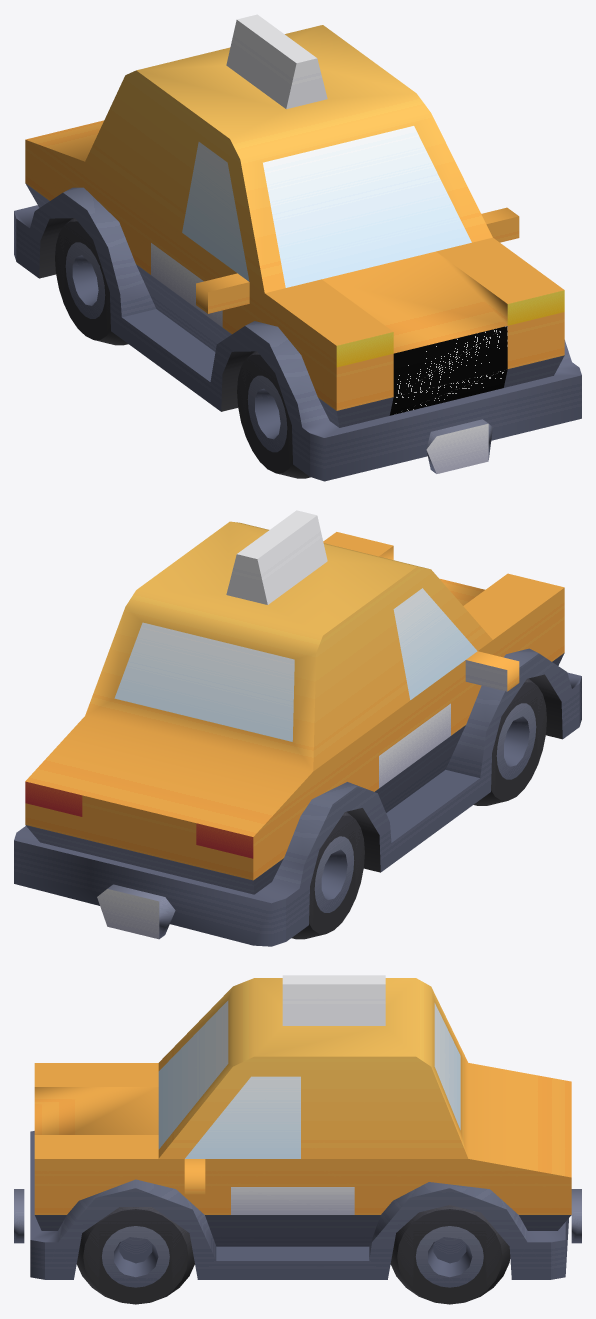
The model's file is taxi.lod1.glb.
The picture shows the model from 3 angles, top to bottom: view 1: azimuth 30°, elevation 25°; view 2: azimuth 150°, elevation 25°; view 3: azimuth 270°, elevation 25°; orthographic projection. The views are drawn at different scales.
Parts seen in each view (by area): view 1: body, wheel-front-right, wheel-back-right; view 2: body, wheel-back-right, wheel-front-right; view 3: body, wheel-back-left, wheel-front-left.
Part boxes in pixels (bbox=[...]): body: bbox=[14, 14, 581, 481]; wheel-front-right: bbox=[237, 351, 310, 478]; wheel-back-right: bbox=[55, 218, 128, 345]; body: bbox=[14, 510, 581, 946]; wheel-back-right: bbox=[291, 811, 364, 939]; wheel-front-right: bbox=[473, 678, 546, 805]; body: bbox=[14, 975, 581, 1279]; wheel-back-left: bbox=[390, 1205, 510, 1304]; wheel-front-left: bbox=[76, 1207, 194, 1304].
Size of the model in its own units: 1.5 by 1.5 by 2.75.
1 material, 1 textured.
